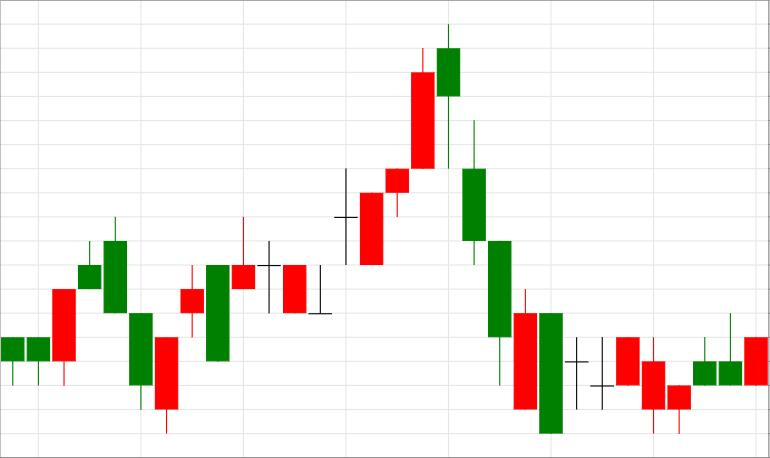three_black_crows_fall: (334, 24, 511, 386)
